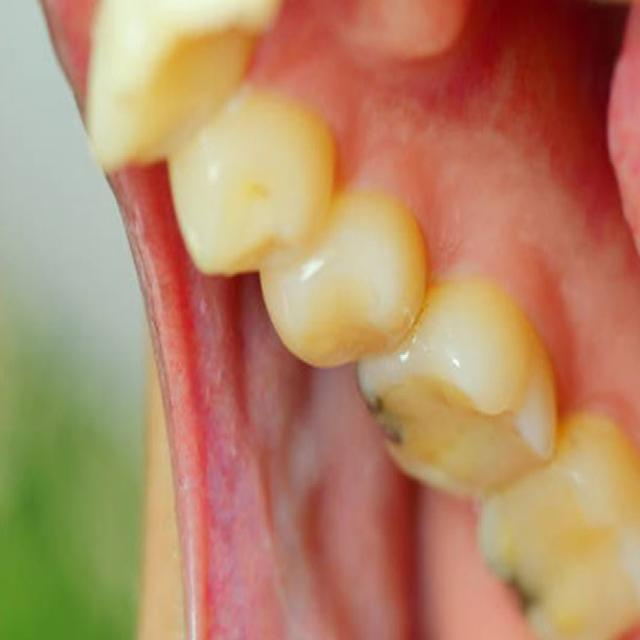caries: (492, 552, 556, 632), (359, 373, 407, 459)
